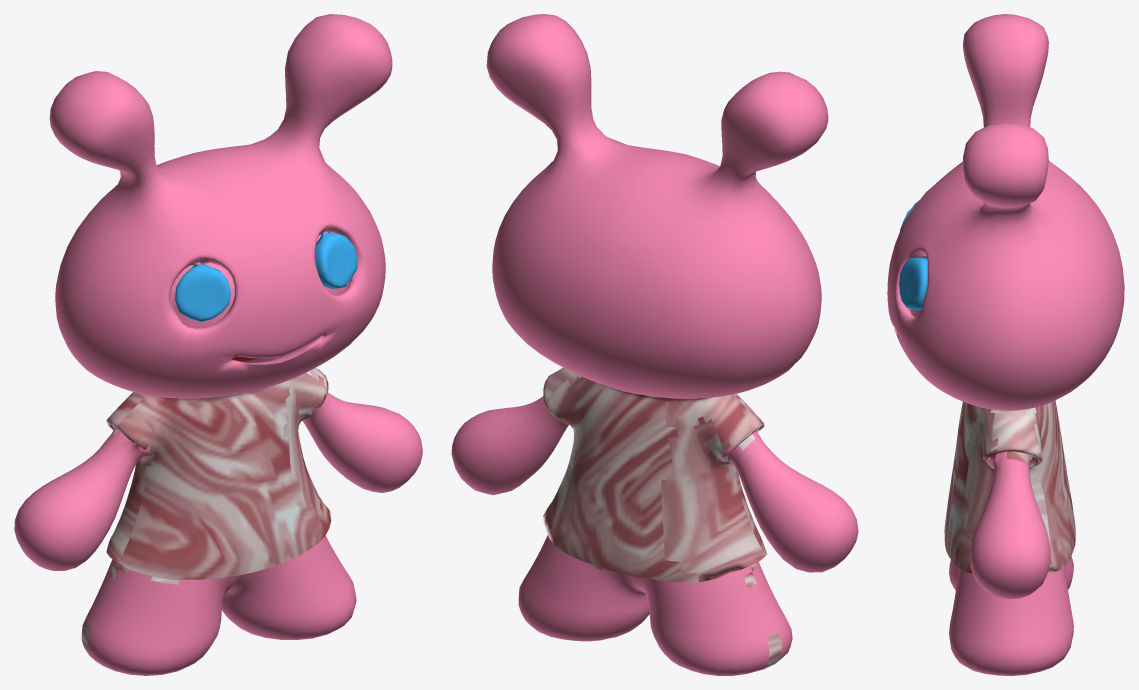
Rendered from all wrong.glb.
3 renders of one model, left to right at view 1: azimuth 30°, elevation 25°; view 2: azimuth 150°, elevation 25°; view 3: azimuth 270°, elevation 25°, orthographic. The views are drawn at different scales.
Parts seen in each view (by area): view 1: Mesh0; view 2: Mesh0; view 3: Mesh0.
Part boxes in pixels (bbox=[...]): Mesh0: bbox=[14, 14, 422, 675]; Mesh0: bbox=[451, 14, 858, 675]; Mesh0: bbox=[887, 14, 1124, 675].
Bounding box in the file's own units: 1.39 × 2 × 0.7707.
Materials: 1 (1 with a texture image).
